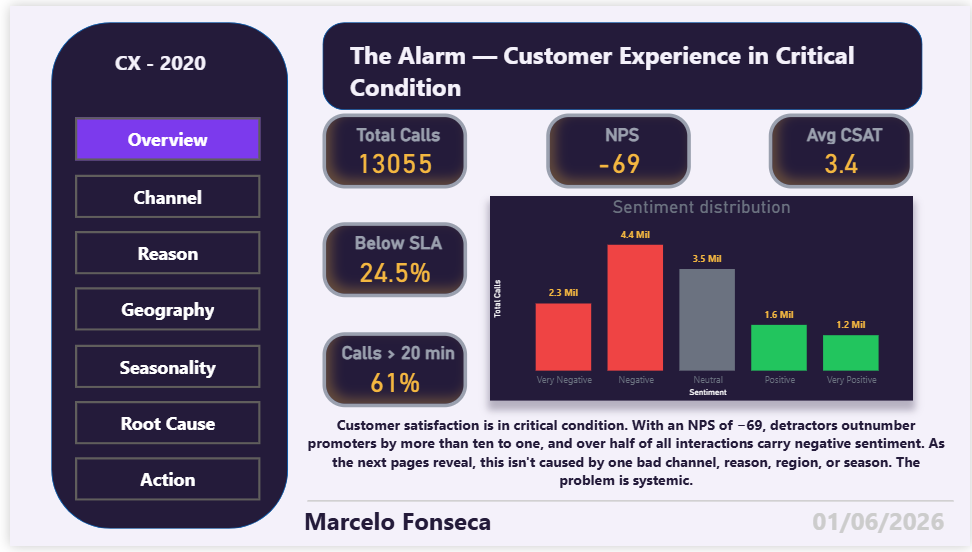

What the dashboard file says about the page in this screenshot:
{"tool":"powerbi","page":{"name":"Overview","canvas":[1280,720],"ordinal":1},"visuals":[{"type":"shape","box":[54.4,21.1,315.8,675.4],"z":0},{"type":"textbox","box":[135.5,50.9,149.1,57.9],"z":1000},{"type":"shape","box":[417.1,21.4,800,117.1],"z":2000},{"type":"textbox","box":[449.1,38.6,756.1,110.5],"z":3000},{"type":"shape","box":[396.5,629.8,861.4,59.6],"z":16000},{"type":"textbox","box":[386,659.6,300,59.6],"z":17000},{"type":"textbox","box":[1064.9,659.6,193,59.6],"z":18000},{"type":"actionButton","title":"Overview","box":[86.4,149.1,247.4,57.9],"z":19000},{"type":"actionButton","box":[86.4,224.6,247.4,57.9],"z":20000},{"type":"actionButton","box":[86.4,300,247.4,57.9],"z":21000},{"type":"actionButton","box":[86.4,375.4,247.4,57.9],"z":22000},{"type":"actionButton","box":[86.4,450.9,247.4,57.9],"z":23000},{"type":"actionButton","box":[86.4,526.3,247.4,57.9],"z":24000},{"type":"actionButton","box":[86.4,601.8,247.4,57.9],"z":25000},{"type":"card","title":"Total Calls","fields":{"Values":["Call Center Data.Total Calls"]},"box":[417.1,143.9,192.9,100],"z":25001},{"type":"card","title":"NPS","fields":{"Values":["Call Center Data.NPS"]},"box":[714.3,143.9,192.9,100],"z":25002},{"type":"card","title":"Avg CSAT","fields":{"Values":["Call Center Data.Avg CSAT"]},"box":[1011.4,143.9,192.9,100],"z":25003},{"type":"card","title":"Below SLA","fields":{"Values":["Call Center Data.% Below SLA"]},"box":[417.1,289.1,192.9,100],"z":25004},{"type":"card","title":"Calls > 20 min","fields":{"Values":["Call Center Data.% Long Calls"]},"box":[417.1,434.3,192.9,100],"z":25005},{"type":"columnChart","title":"Sentiment distribution","fields":{"Y":["Call Center Data.Total Calls"],"Category":["Call Center Data.Sentiment"]},"box":[640,252.9,564.3,272.9],"z":25006},{"type":"textbox","box":[385.7,540,872.9,120],"z":25007}]}

Visuals, with their boxes in screenshot pixels (x1, y1, x2, y2), scaled from the page's 1280x720 canvas onto the 972x552 screenshot:
shape: locate(41, 16, 281, 534)
textbox: locate(103, 39, 216, 83)
shape: locate(317, 16, 924, 106)
textbox: locate(341, 30, 915, 114)
shape: locate(301, 483, 955, 529)
textbox: locate(293, 506, 521, 551)
textbox: locate(809, 506, 955, 551)
"Overview" actionButton: locate(66, 114, 253, 159)
actionButton: locate(66, 172, 253, 217)
actionButton: locate(66, 230, 253, 274)
actionButton: locate(66, 288, 253, 332)
actionButton: locate(66, 346, 253, 390)
actionButton: locate(66, 403, 253, 448)
actionButton: locate(66, 461, 253, 506)
"Total Calls" card: locate(317, 110, 463, 187)
"NPS" card: locate(542, 110, 689, 187)
"Avg CSAT" card: locate(768, 110, 915, 187)
"Below SLA" card: locate(317, 222, 463, 298)
"Calls > 20 min" card: locate(317, 333, 463, 410)
"Sentiment distribution" columnChart: locate(486, 194, 915, 403)
textbox: locate(293, 414, 956, 506)
